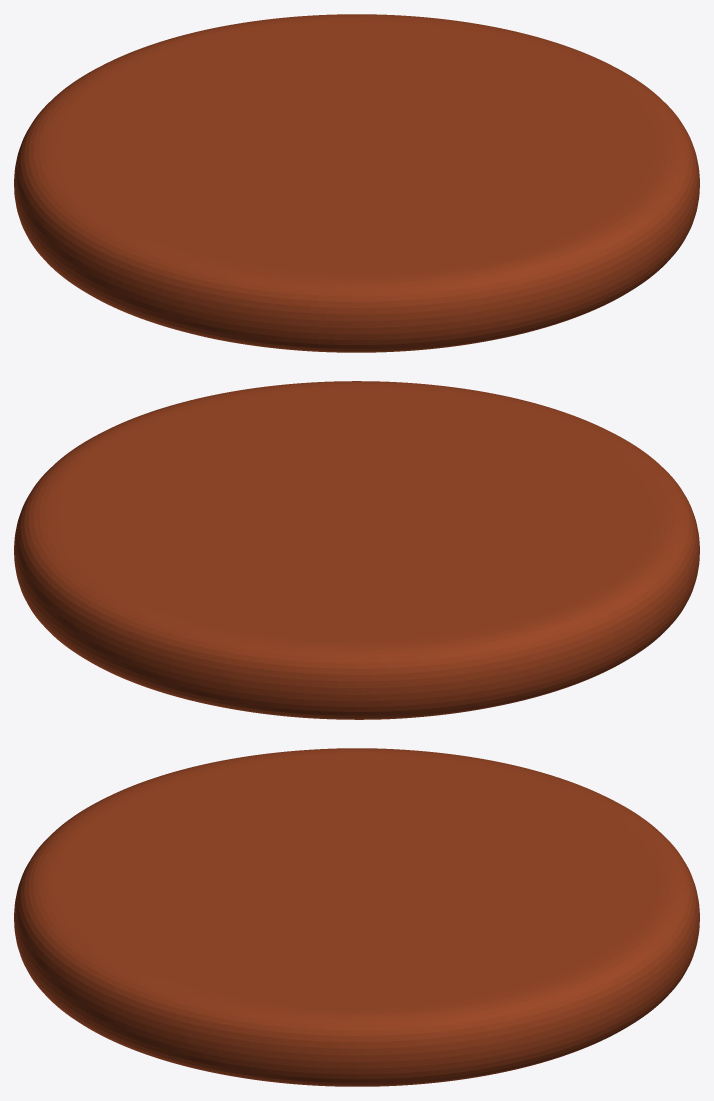
Rendered from Burguer.fbx.
3 renders of one model, top to bottom at view 1: azimuth 30°, elevation 25°; view 2: azimuth 150°, elevation 25°; view 3: azimuth 270°, elevation 25°, orthographic.
Visible parts, largest first — view 1: Hamburger; view 2: Hamburger; view 3: Hamburger.
Part boxes in pixels (bbox=[...]): Hamburger: bbox=[14, 14, 699, 352]; Hamburger: bbox=[14, 381, 699, 719]; Hamburger: bbox=[14, 748, 699, 1086].
Bounding box in the file's own units: 188 × 21.24 × 188.
